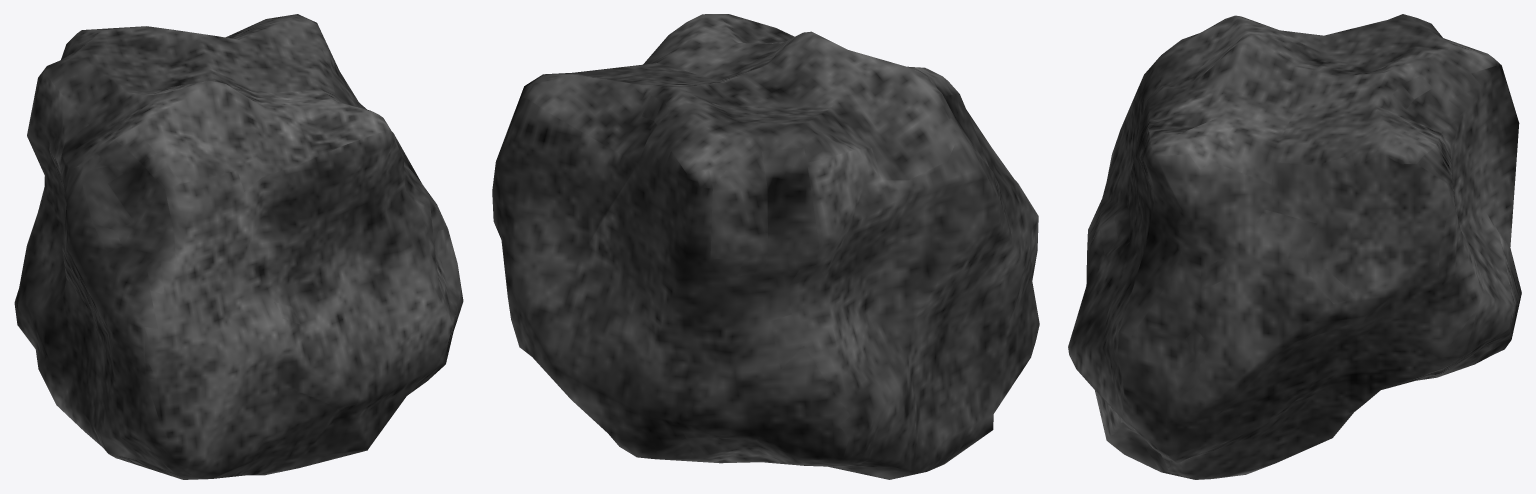
Rendered from rock1.glb.
The picture shows the model from 3 angles, left to right: view 1: azimuth 30°, elevation 25°; view 2: azimuth 150°, elevation 25°; view 3: azimuth 270°, elevation 25°; orthographic projection. The views are drawn at different scales.
Parts seen in each view (by area): view 1: rock1_0; view 2: rock1_0; view 3: rock1_0.
Part boxes in pixels (<box>): rock1_0: <box>14,14,463,479</box>; rock1_0: <box>492,14,1039,479</box>; rock1_0: <box>1068,14,1521,479</box>.
Size of the model in its own units: 1 by 0.9457 by 0.9802.
1 material, 1 textured.
